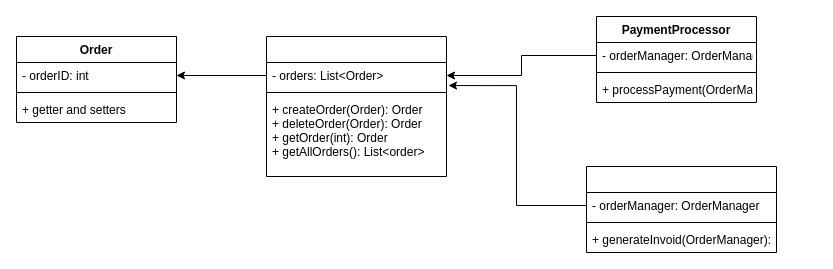
Image size: 833x269. Some labels were removed from this diagram. Each missing label, with the box of its shape:
InvoiceGenerator: (586, 166, 776, 252)
OrderManager: (266, 36, 446, 176)
